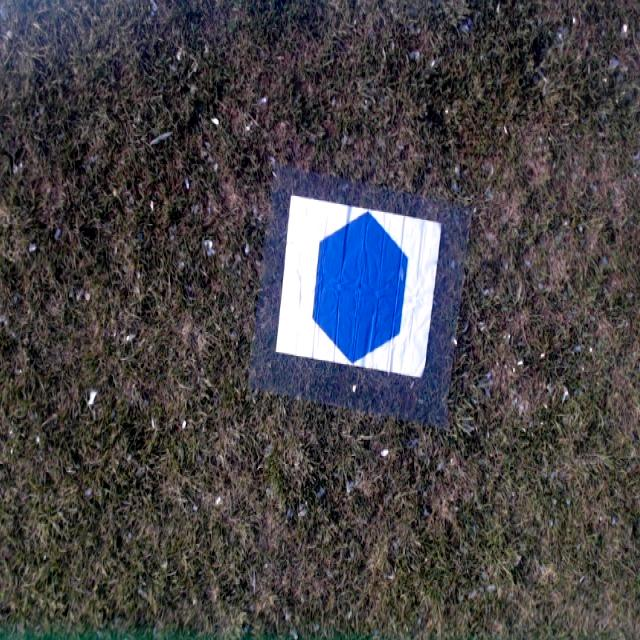blue_hexagon: (312, 212, 410, 366)
